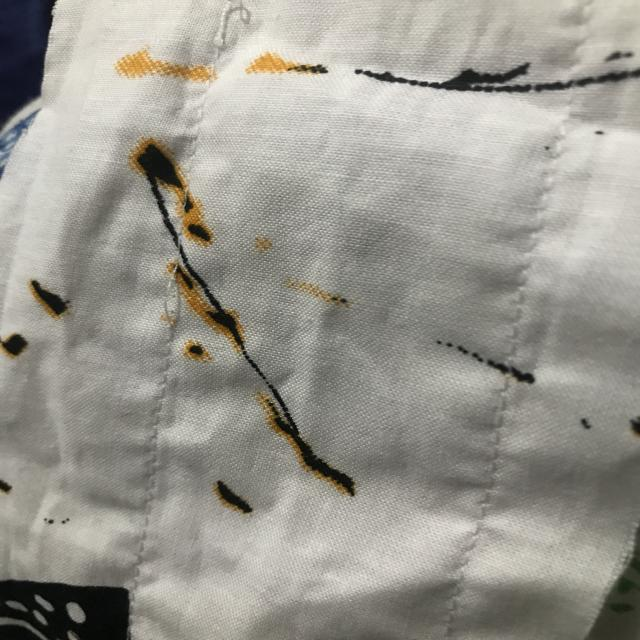skip: (150, 247, 203, 345)
